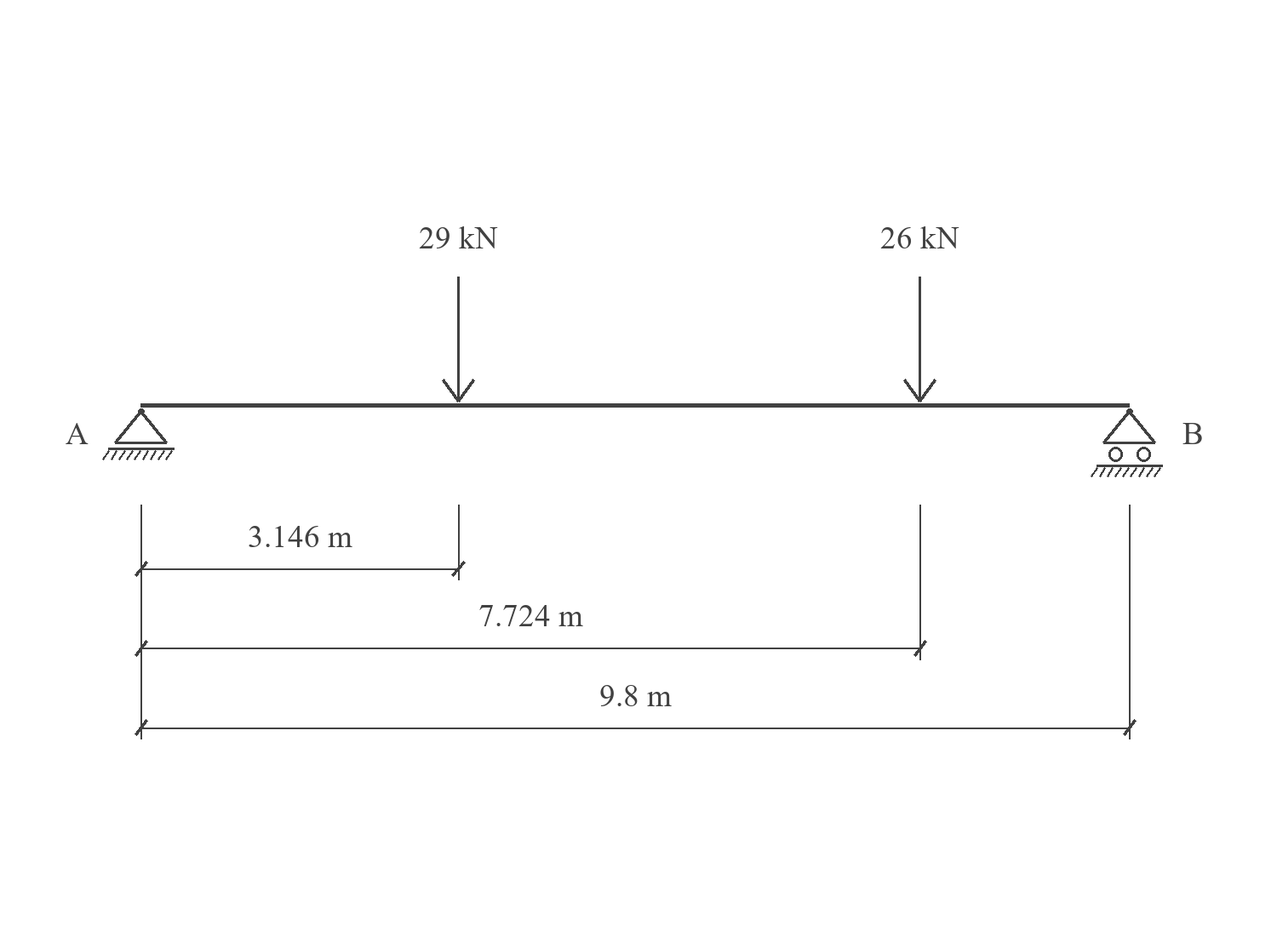pin_support: (102, 408, 175, 460)
point_load: (442, 277, 475, 402), (903, 277, 936, 402)
roller_support: (1091, 408, 1163, 477)
